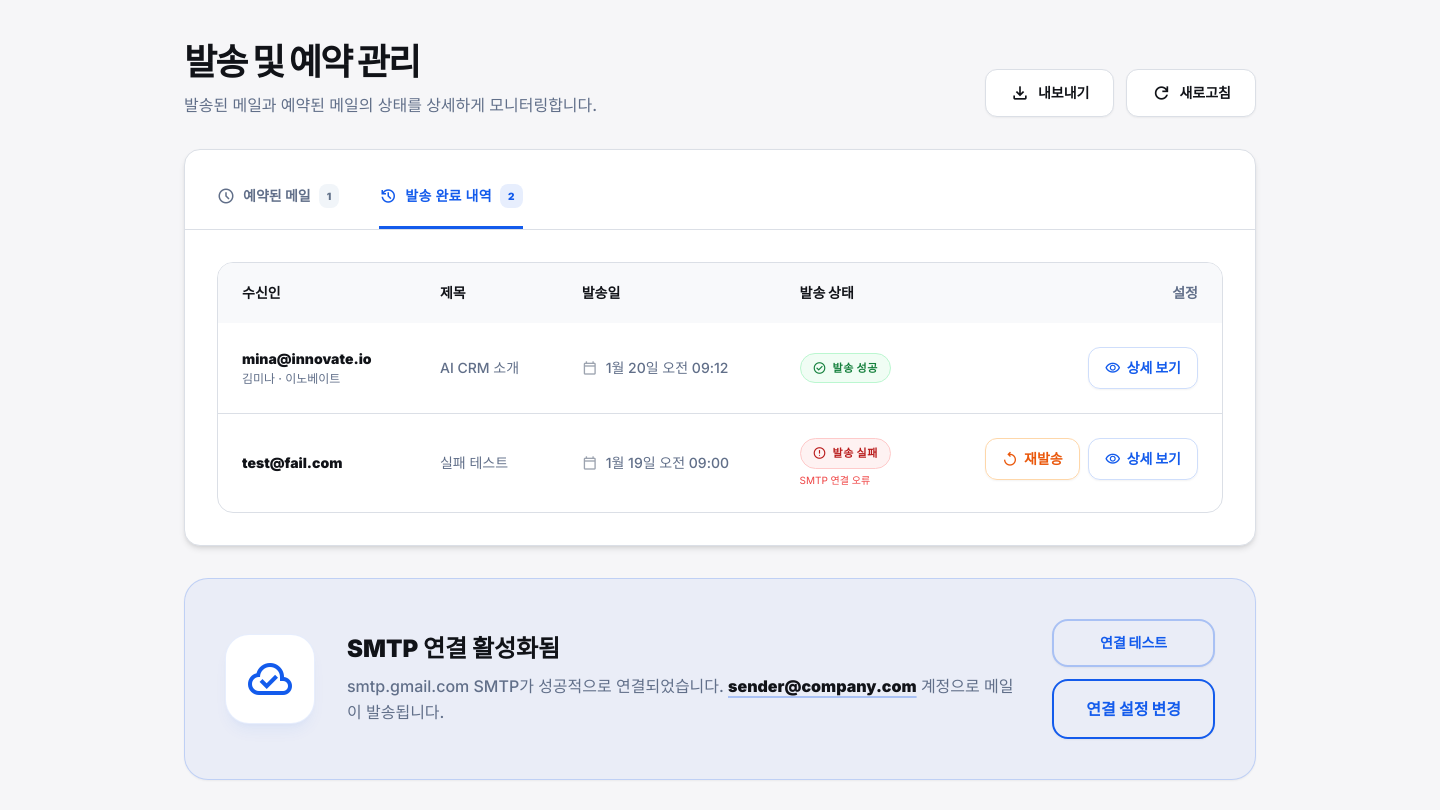
Test case: EmailManagement › 탭 전환 › 예약된 메일 탭 클릭 시 예약 데이터를 표시한다
Expected: the text "AI CRM 소개" is shown, [416,323,558,414]
Click the button "예약된 메일 1" at point(278, 198), box [217,166,339,229]
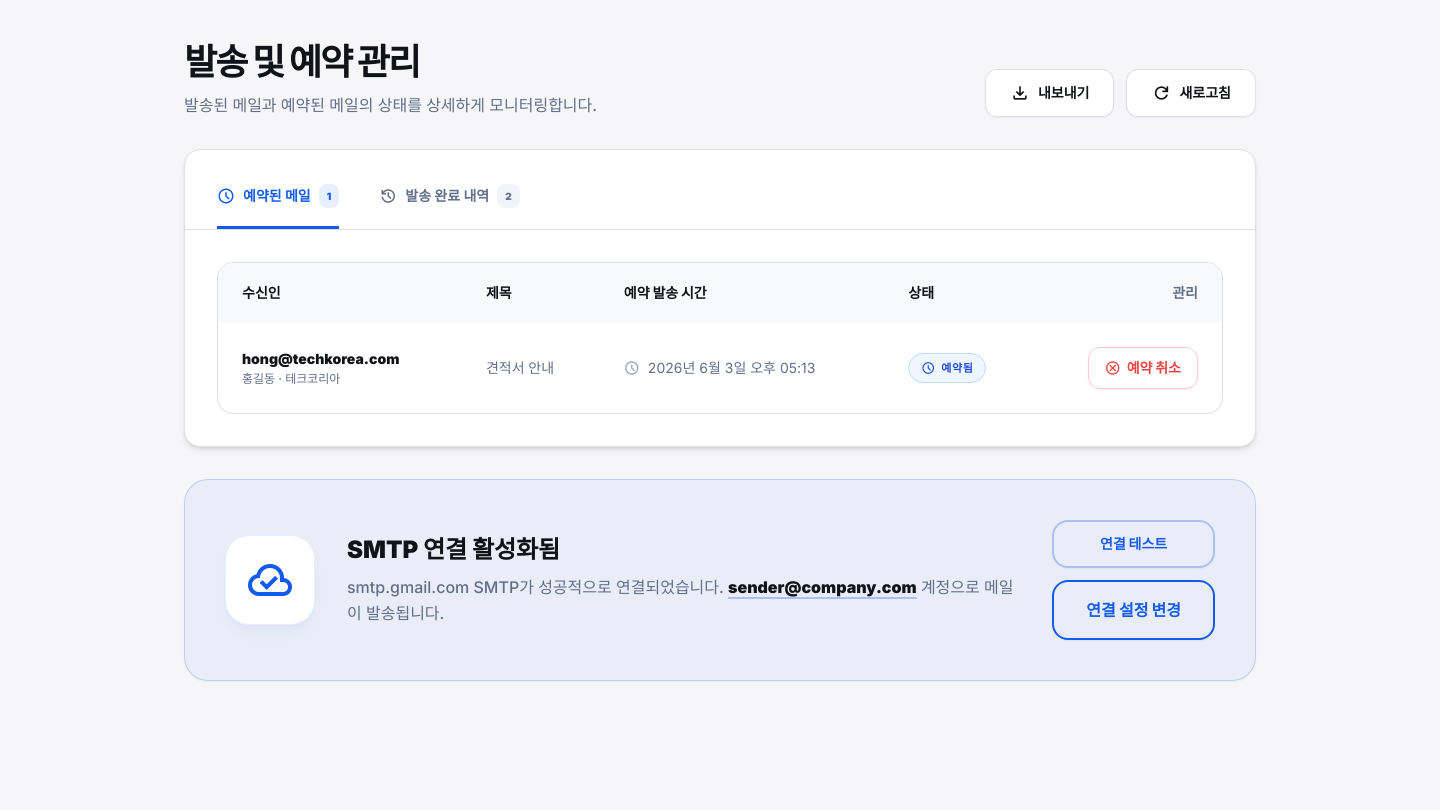
Expected: the text "hong@techkorea.com" is shown, [242,350,400,367]
Expected: the text "견적서 안내" is shown, [462,323,600,413]
